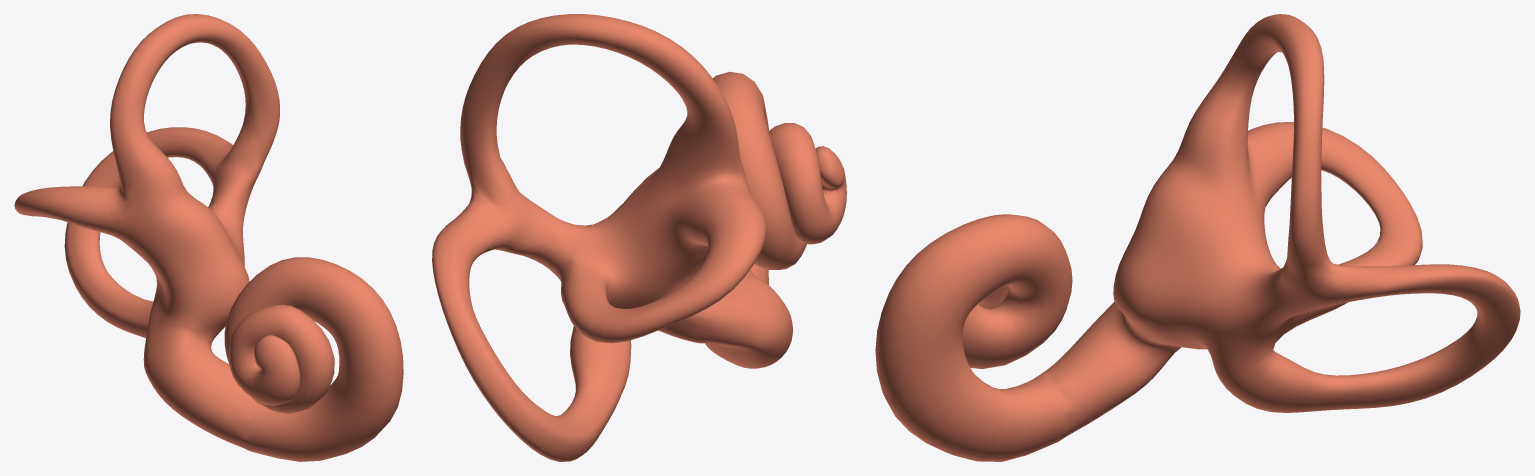
Rendered from cochlear_single.fbx.
3 renders of one model, left to right at view 1: azimuth 30°, elevation 25°; view 2: azimuth 150°, elevation 25°; view 3: azimuth 270°, elevation 25°, orthographic. The views are drawn at different scales.
Visible parts, largest first — view 1: Cochlea Curve Model; view 2: Cochlea Curve Model; view 3: Cochlea Curve Model.
Part boxes in pixels (x1,y1,x2,y2): Cochlea Curve Model: (14, 14, 403, 461); Cochlea Curve Model: (432, 14, 846, 461); Cochlea Curve Model: (875, 14, 1520, 461).
Bounding box in the file's own units: 440 × 601 × 819.
